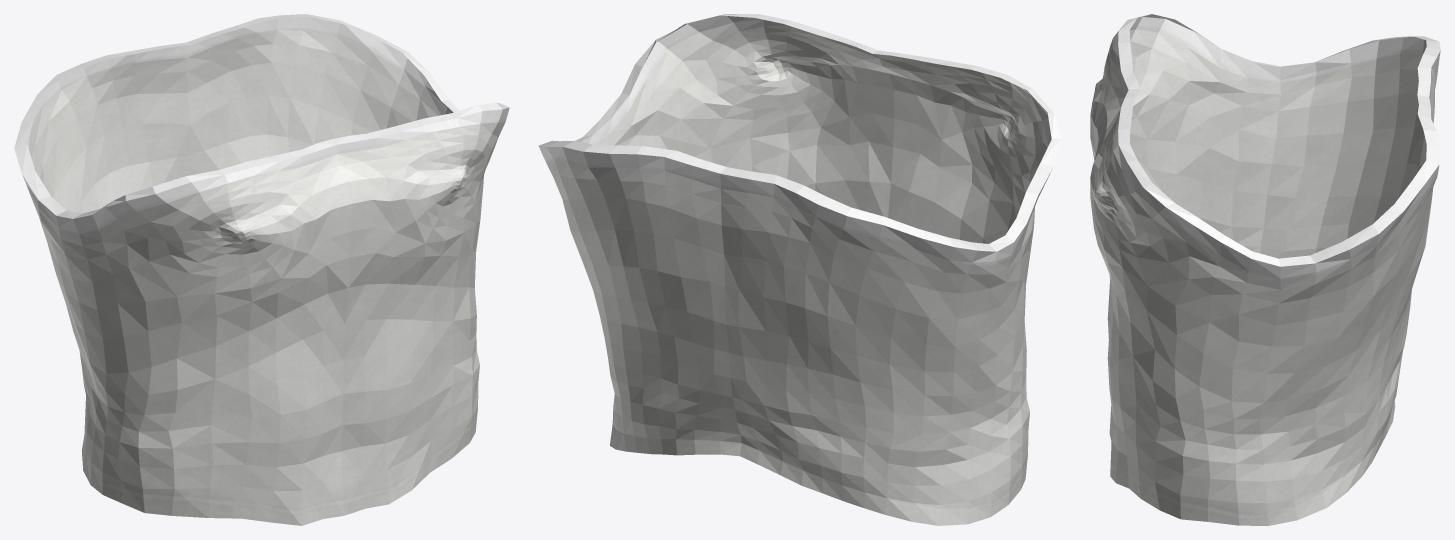
File: mhw_punkduck_tube_top.glb
The picture shows the model from 3 angles, left to right: view 1: azimuth 30°, elevation 25°; view 2: azimuth 150°, elevation 25°; view 3: azimuth 270°, elevation 25°; orthographic projection. The views are drawn at different scales.
Visible parts, largest first — view 1: mhw_punkduck_tube_top; view 2: mhw_punkduck_tube_top; view 3: mhw_punkduck_tube_top.
Part boxes in pixels (x1=…): mhw_punkduck_tube_top: x1=14, y1=14, x2=509, y2=525; mhw_punkduck_tube_top: x1=538, y1=14, x2=1061, y2=525; mhw_punkduck_tube_top: x1=1090, y1=14, x2=1440, y2=525.
Bounding box in the file's own units: 0.3539 × 0.3065 × 0.2606.
Materials: 1 (1 with a texture image).
